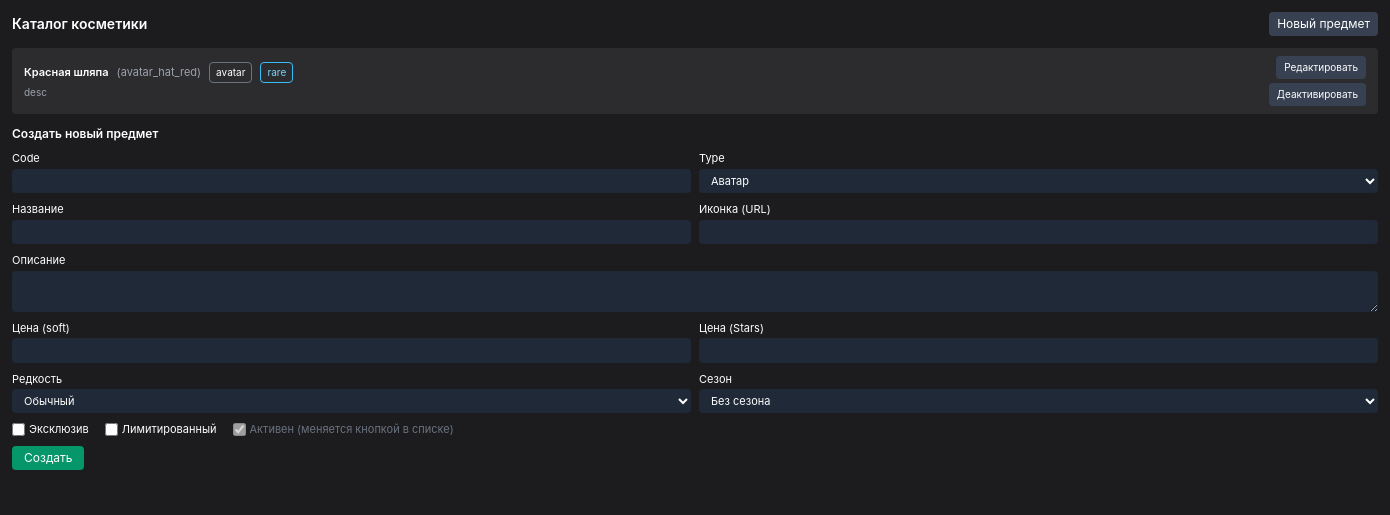
Test: AdminCosmeticsSection › allows editing cosmetic item and populates initial values
The width and height of the screenshot is (1390, 515).
Click the button "Редактировать" at (1321, 68), box [1276,56,1366,79]
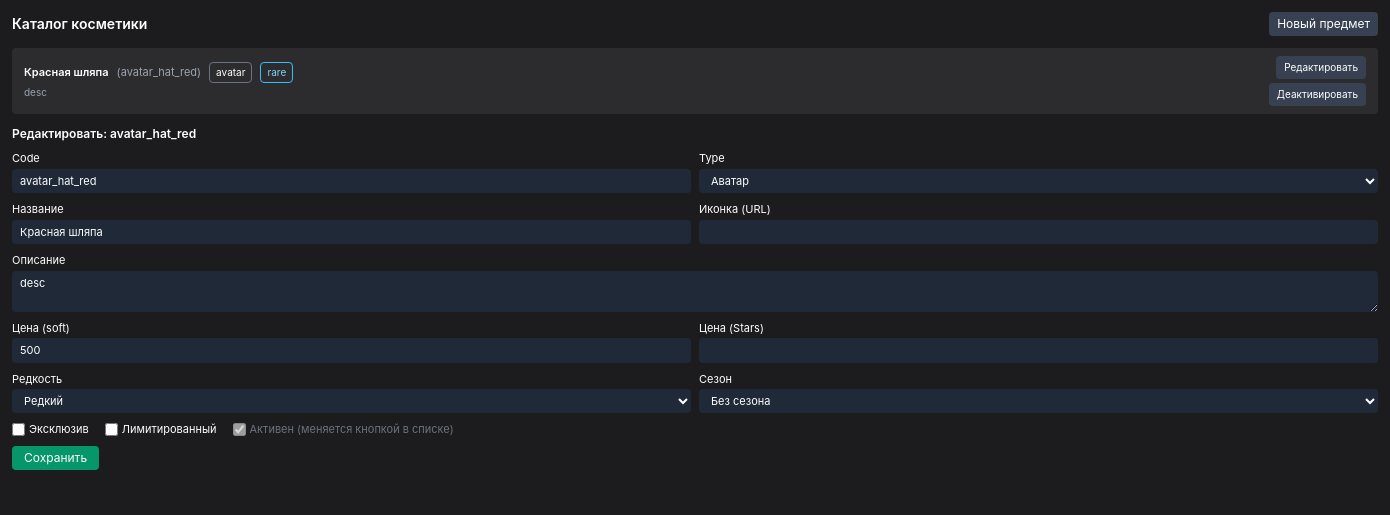
Now the dropdown labelled "Редкость" shows "Редкий"
Select "Легендарный" in the dropdown labelled "Редкость" at (352, 401), box [12,389,691,413]
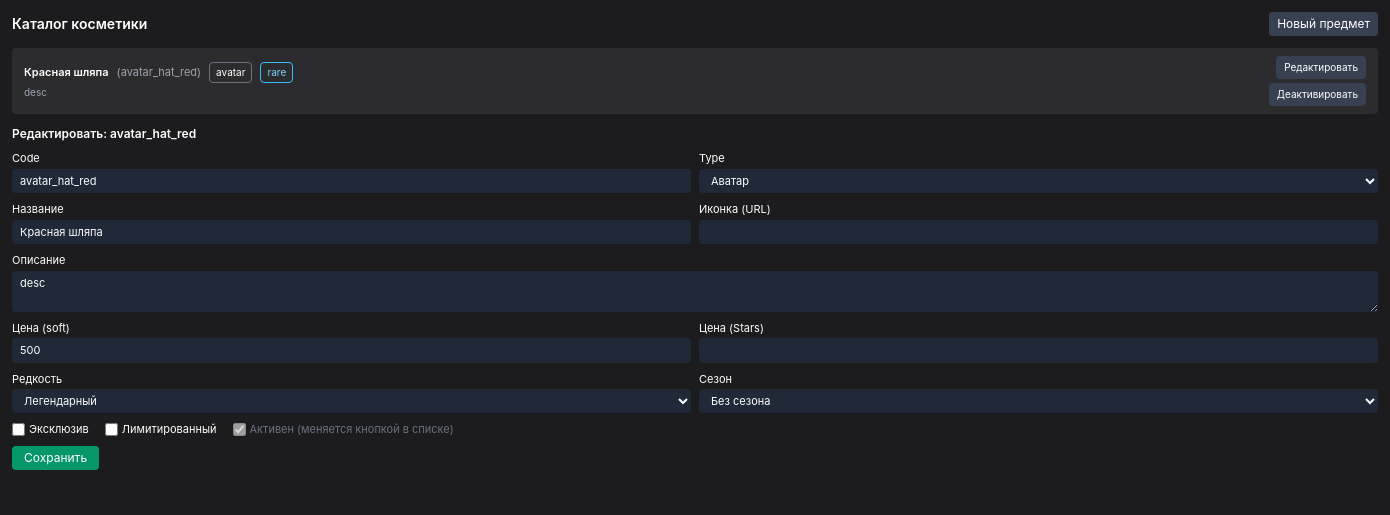
Submit the form named "Форма косметики"
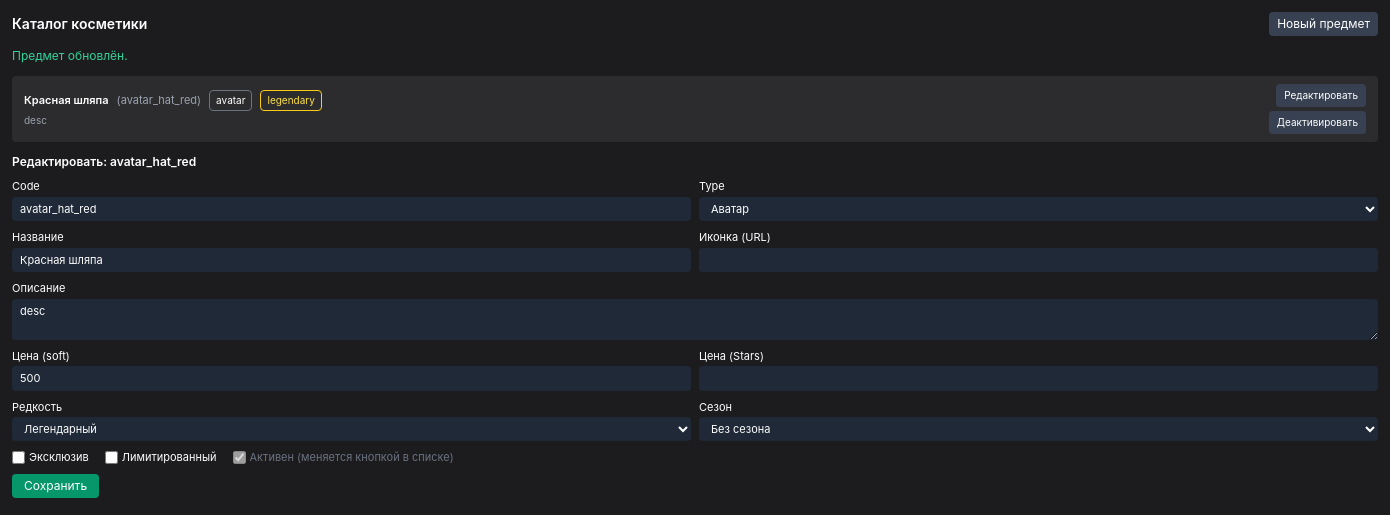
Now the text "legendary" is shown, box [260,90,322,111]
